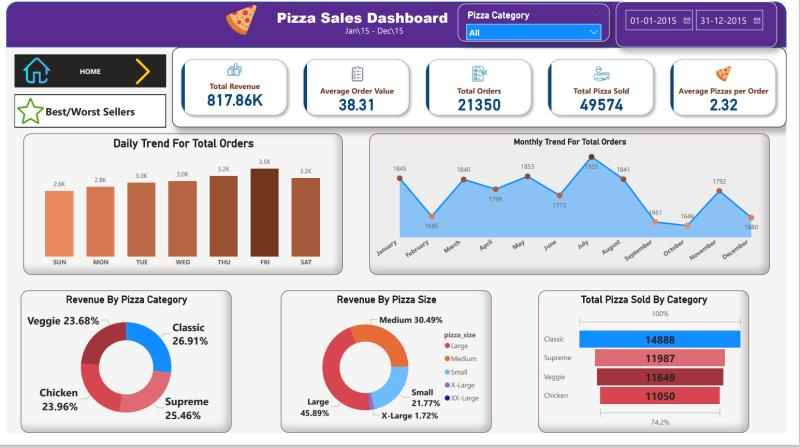

The dashboard page shown, as its layout file describes it:
{"tool":"powerbi","page":{"name":"HOME","canvas":[1500,830],"ordinal":0},"visuals":[{"type":"cardVisual","fields":{"Data":["pizza_sales.Total Revenue","pizza_sales.Average Order Value","pizza_sales.Total Orders","pizza_sales.Total Pizza Sold","pizza_sales.Average Pizzas per Order"]},"box":[319.3,87.7,1180.7,154.4],"z":0},{"type":"shape","box":[0,0,1500,87.7],"z":1000},{"type":"textbox","box":[515.3,6.7,364.9,52.6],"z":2000},{"type":"textbox","box":[646.8,40,138.6,35.1],"z":3000},{"type":"image","box":[415.3,-0.4,73.7,70.2],"z":4000},{"type":"columnChart","title":"Daily Trend For Total Orders","fields":{"Category":["pizza_sales.DAY"],"Y":["pizza_sales.Total Orders"]},"box":[33.3,254.4,614,271.9],"z":5000},{"type":"areaChart","title":"Monthly Trend For Total Orders","fields":{"Category":["pizza_sales.Month Name"],"Y":["pizza_sales.Total Orders"]},"box":[698.2,254.4,770.2,271.9],"z":6000},{"type":"donutChart","title":"Revenue By Pizza Category","fields":{"Category":["pizza_sales.pizza_category"],"Y":["pizza_sales.Total Revenue"]},"box":[28.1,556.1,405.3,273.7],"z":7000},{"type":"donutChart","title":"Revenue By Pizza Size","fields":{"Category":["pizza_sales.pizza_size"],"Y":["pizza_sales.Total Revenue"]},"box":[528.1,556.1,405.3,273.7],"z":8000},{"type":"funnel","title":"Total Pizza Sold By Category","fields":{"Category":["pizza_sales.pizza_category"],"Y":["pizza_sales.Total Pizza Sold"]},"box":[1022.8,556.1,405.3,273.7],"z":9000},{"type":"slicer","fields":{"Values":["pizza_sales.pizza_category"]},"box":[868.4,3.5,291.2,73.7],"z":10000},{"type":"slicer","fields":{"Values":["pizza_sales.order_date"]},"box":[1171.9,0,310.5,87.7],"z":11000},{"type":"pageNavigator","box":[15.8,101.8,291.2,63.2],"z":12000},{"type":"pageNavigator","box":[15.8,178.9,291.2,63.2],"z":13000},{"type":"image","box":[231.6,101.8,61.4,64.9],"z":14000},{"type":"image","box":[28.1,100,61.4,64.9],"z":15000},{"type":"image","box":[15,176.7,56.7,66.7],"z":16000}]}

Visuals, with their boxes in screenshot pixels (x1, y1, x2, y2), scaled from the page's 1500x830 canvas onto the 800x448 screenshot:
cardVisual - pizza_sales.Total Revenue x pizza_sales.Average Order Value: 170:47:799:131
shape: 0:0:799:47
textbox: 275:4:469:32
textbox: 345:22:419:41
image: 221:0:261:38
"Daily Trend For Total Orders" columnChart: 18:137:345:284
"Monthly Trend For Total Orders" areaChart: 372:137:783:284
"Revenue By Pizza Category" donutChart: 15:300:231:447
"Revenue By Pizza Size" donutChart: 282:300:498:447
"Total Pizza Sold By Category" funnel: 545:300:762:447
slicer - pizza_sales.pizza_category: 463:2:618:42
slicer - pizza_sales.order_date: 625:0:791:47
pageNavigator: 8:55:164:89
pageNavigator: 8:97:164:131
image: 124:55:156:90
image: 15:54:48:89
image: 8:95:38:131
